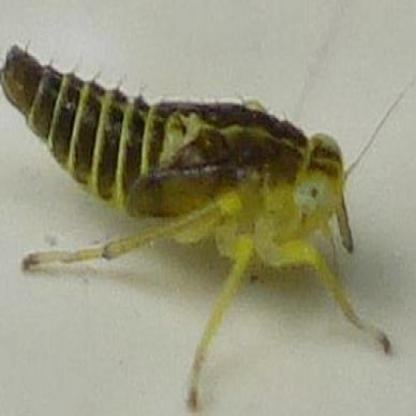green-leafhopper: (7, 50, 346, 305)
